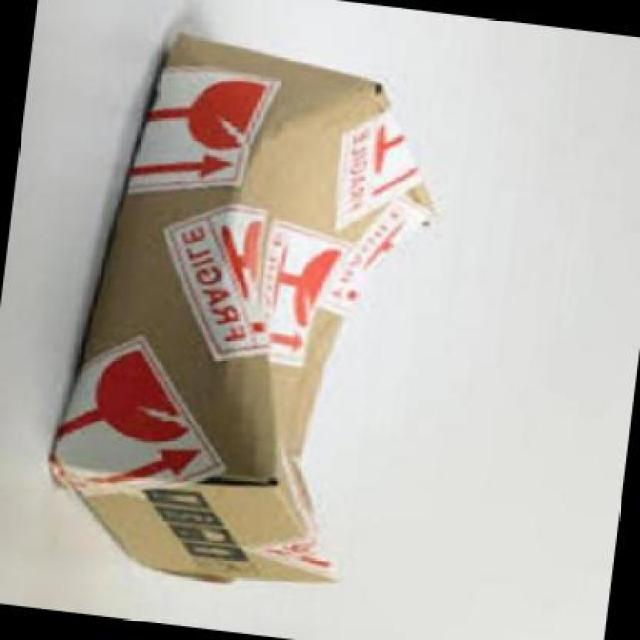box: (41, 21, 452, 607)
